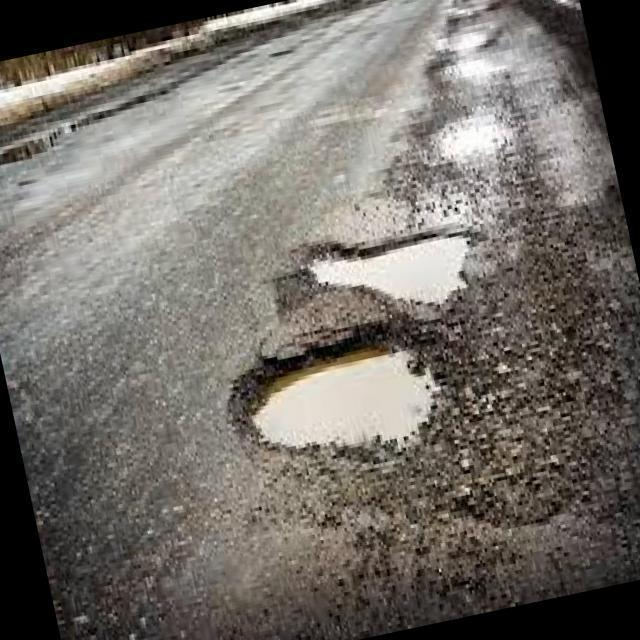Pothole: (249, 348, 437, 456), (309, 233, 471, 301)
